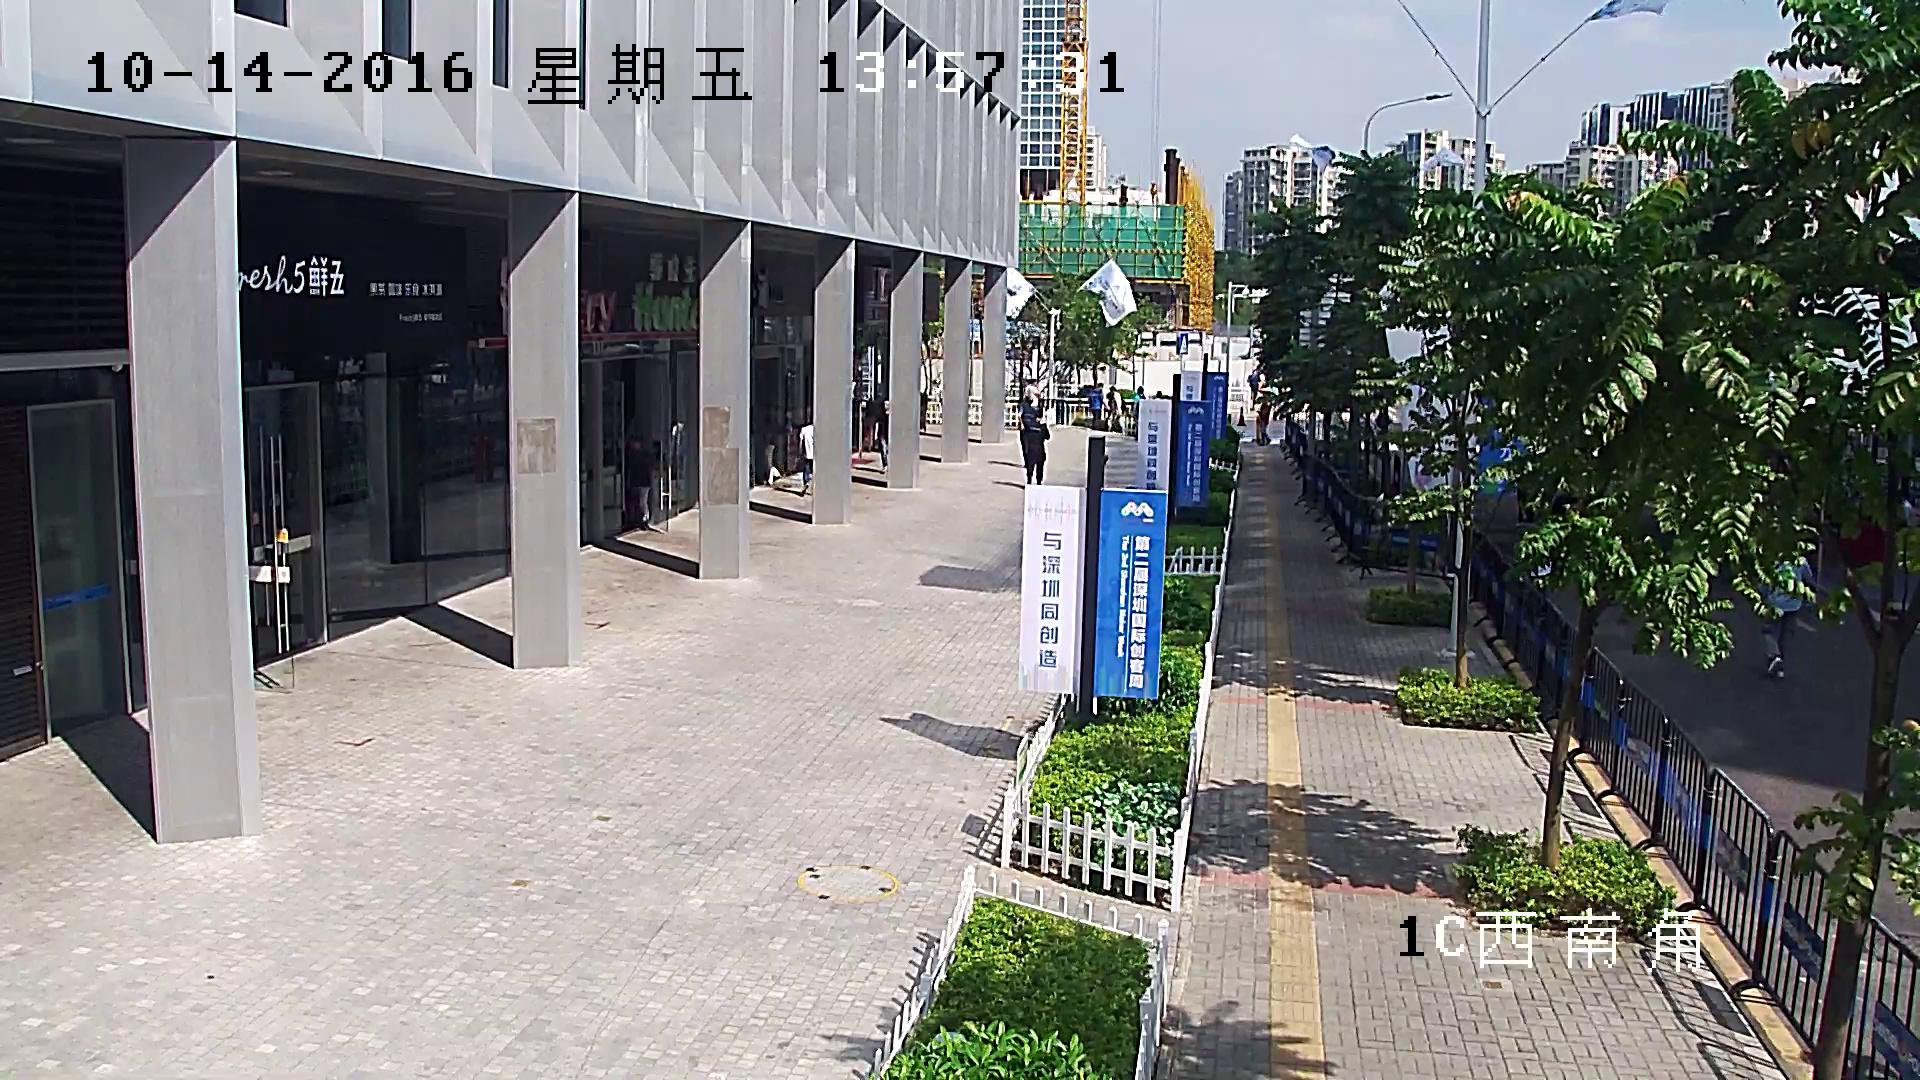person: (1759, 555, 1813, 680), (621, 435, 653, 524), (1024, 417, 1049, 484), (798, 422, 814, 496), (874, 396, 888, 473), (1087, 382, 1104, 429), (1256, 400, 1271, 446), (1246, 369, 1261, 411), (1110, 386, 1124, 432), (1134, 385, 1145, 440), (1027, 378, 1041, 416)
